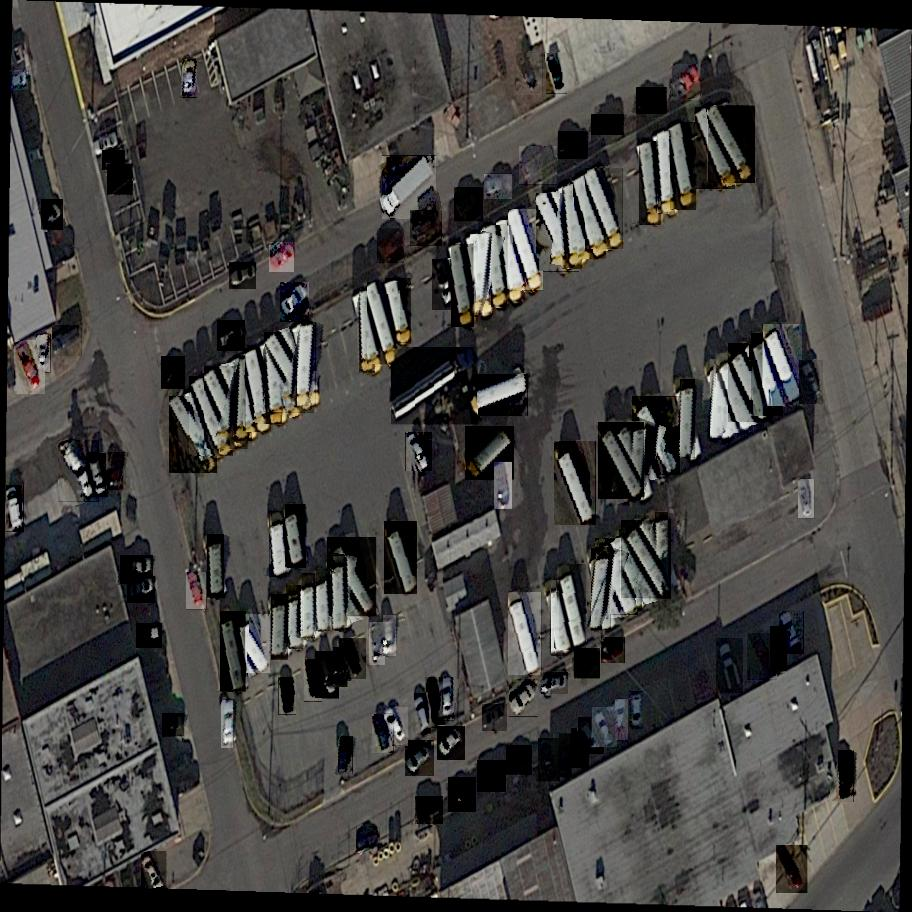large-vehicle: (387, 348, 485, 426), (262, 332, 316, 414), (326, 537, 380, 618), (378, 156, 442, 222), (630, 397, 682, 475), (620, 521, 672, 599), (202, 367, 250, 450), (706, 106, 757, 184), (169, 396, 220, 473), (727, 343, 775, 422), (553, 442, 598, 526), (187, 376, 233, 458), (597, 423, 646, 499), (534, 194, 580, 273), (693, 107, 737, 189), (762, 324, 804, 407), (594, 538, 638, 615), (584, 168, 625, 250), (715, 353, 756, 432), (507, 209, 545, 291), (507, 592, 544, 676), (365, 282, 401, 365), (465, 374, 533, 417), (573, 178, 608, 260), (750, 332, 784, 416), (464, 427, 517, 480), (228, 614, 273, 674), (383, 521, 419, 594), (669, 122, 697, 210), (559, 564, 587, 650), (496, 220, 525, 302), (220, 611, 247, 691), (246, 349, 272, 432), (482, 226, 508, 307), (451, 244, 475, 327), (619, 529, 643, 611), (639, 142, 662, 225), (385, 279, 414, 344), (562, 185, 583, 269), (470, 233, 491, 314), (592, 548, 612, 631), (710, 359, 730, 442), (628, 420, 647, 501), (298, 323, 316, 407), (657, 131, 675, 213), (236, 357, 253, 442), (285, 504, 307, 567), (266, 340, 282, 424), (360, 291, 375, 372), (270, 511, 288, 577), (286, 585, 304, 648), (271, 594, 288, 660), (681, 379, 695, 458), (332, 557, 347, 630), (207, 534, 224, 597), (655, 513, 668, 590), (551, 580, 564, 655), (316, 570, 331, 631), (302, 574, 316, 638)
small-vehicle: (56, 440, 103, 502), (12, 340, 47, 394), (517, 147, 562, 186), (715, 638, 745, 693), (776, 845, 809, 893), (745, 633, 778, 680), (507, 679, 544, 718), (278, 283, 314, 323), (407, 210, 447, 246), (432, 259, 459, 311), (139, 851, 169, 896), (451, 188, 489, 223), (337, 639, 369, 680), (668, 65, 704, 101), (314, 651, 341, 699), (402, 741, 437, 777), (798, 360, 826, 405), (515, 53, 545, 95), (591, 707, 621, 748), (444, 777, 479, 812), (214, 320, 252, 352), (49, 326, 88, 357), (434, 727, 469, 761), (116, 556, 158, 584), (778, 612, 805, 655), (374, 228, 407, 263), (424, 677, 447, 727), (577, 718, 608, 755), (382, 707, 411, 746), (474, 760, 509, 792), (405, 433, 433, 472), (536, 738, 560, 782), (570, 648, 603, 679), (632, 88, 671, 114), (87, 453, 110, 497), (504, 745, 536, 776), (546, 53, 570, 94), (372, 714, 397, 753), (225, 263, 261, 290), (6, 486, 27, 532), (555, 133, 592, 159), (104, 165, 136, 195), (412, 797, 447, 824), (124, 576, 159, 603), (494, 462, 514, 509), (38, 200, 68, 231), (266, 243, 298, 272), (159, 357, 188, 389), (89, 130, 123, 157), (481, 174, 515, 200), (412, 693, 433, 735), (352, 826, 384, 853), (479, 705, 512, 731), (106, 450, 126, 492), (133, 623, 166, 648), (304, 659, 323, 702), (838, 751, 854, 802), (186, 573, 208, 610), (769, 626, 787, 671), (599, 637, 628, 664), (798, 479, 817, 519), (589, 115, 625, 136), (571, 729, 590, 768), (369, 622, 386, 665), (158, 714, 189, 737), (278, 678, 297, 715), (538, 673, 571, 694), (333, 647, 348, 687), (221, 700, 233, 748), (338, 736, 353, 774), (99, 151, 128, 170), (183, 59, 197, 98), (37, 334, 51, 373), (383, 615, 396, 656), (615, 700, 628, 740), (629, 692, 643, 729), (559, 734, 571, 777), (6, 70, 31, 90), (443, 678, 454, 720)
